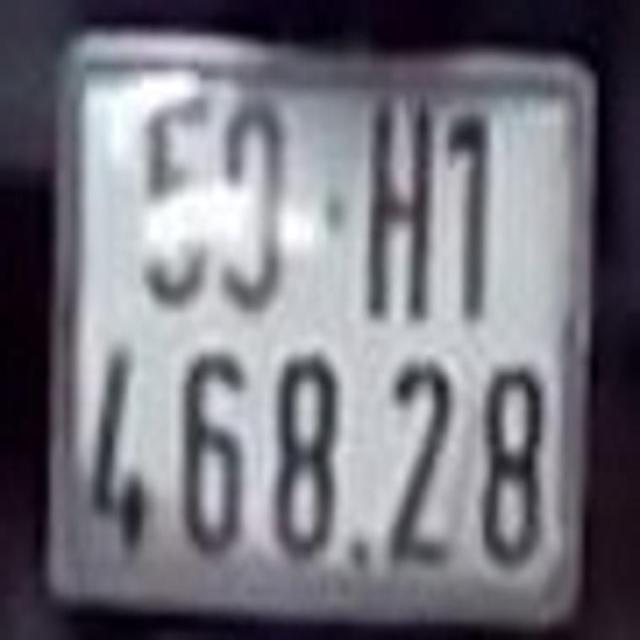1: (446, 115, 490, 320)
2: (391, 364, 450, 567)
4: (93, 353, 149, 554)
5: (142, 92, 209, 303)
6: (183, 354, 244, 554)
8: (276, 360, 334, 558), (484, 371, 540, 566)
9: (220, 102, 284, 312)
H: (367, 100, 431, 322)
